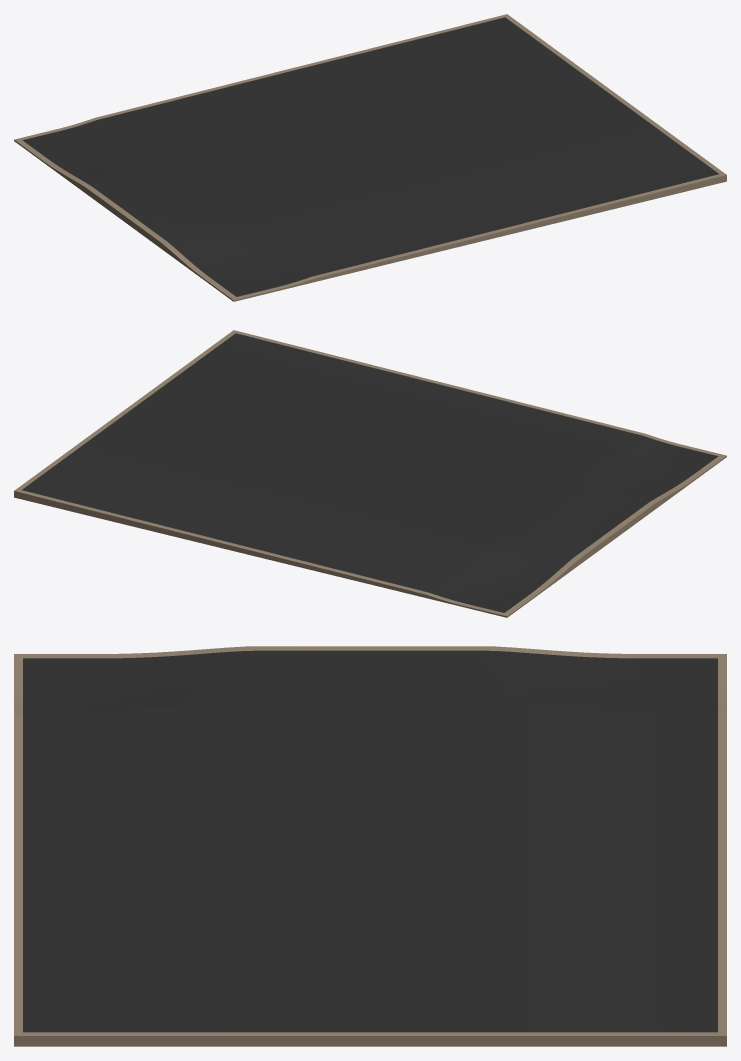
File: gas_station_platform.fbx
The picture shows the model from 3 angles, top to bottom: view 1: azimuth 30°, elevation 25°; view 2: azimuth 150°, elevation 25°; view 3: azimuth 270°, elevation 25°; orthographic projection. The views are drawn at different scales.
Visible parts, largest first — view 1: gas_station_platform; view 2: gas_station_platform; view 3: gas_station_platform.
Boxes of the visible parts, x1,y1,x2,y2 form: gas_station_platform: (14, 14, 726, 301); gas_station_platform: (14, 330, 726, 617); gas_station_platform: (14, 646, 726, 1046).
Size of the model in its own units: 4611 by 59.41 by 3558.
